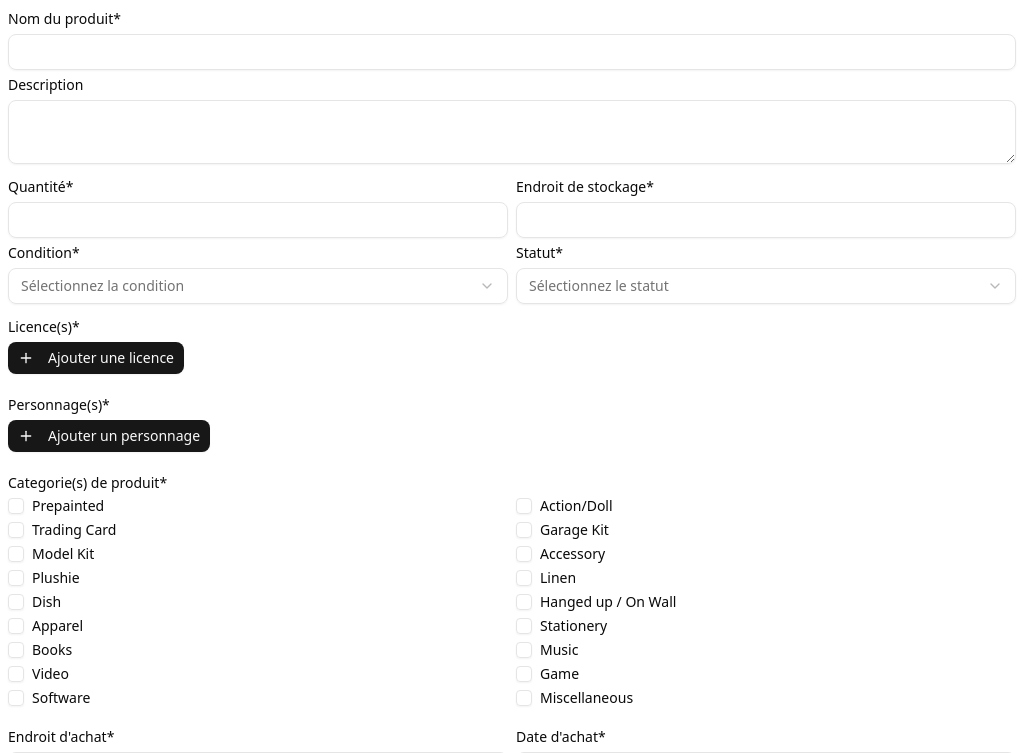
Test case: StockForm › adds and removes character fields
Click the button "Ajouter un personnage".
click(109, 436)  # box [8,420,210,452]
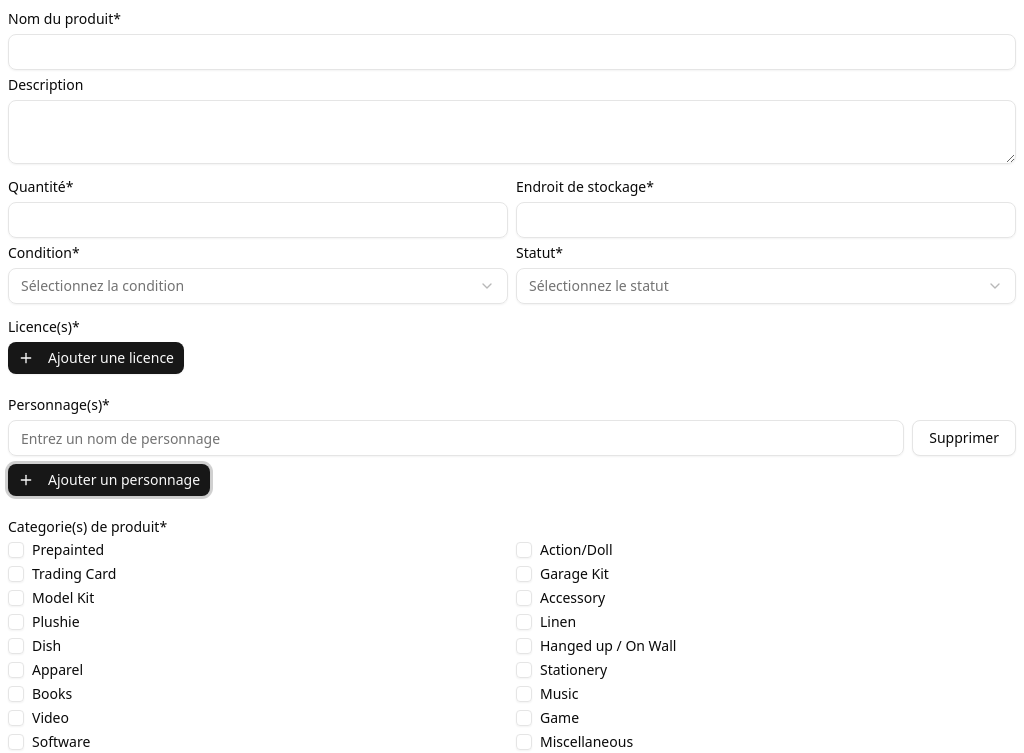
Check: the number of fields with placeholder "Entrez un nom de personnage" is 1, box [8,420,904,456]
# Ajouter un deuxième personnage
Click the button "Ajouter un personnage".
click(109, 480)  # box [8,464,210,496]
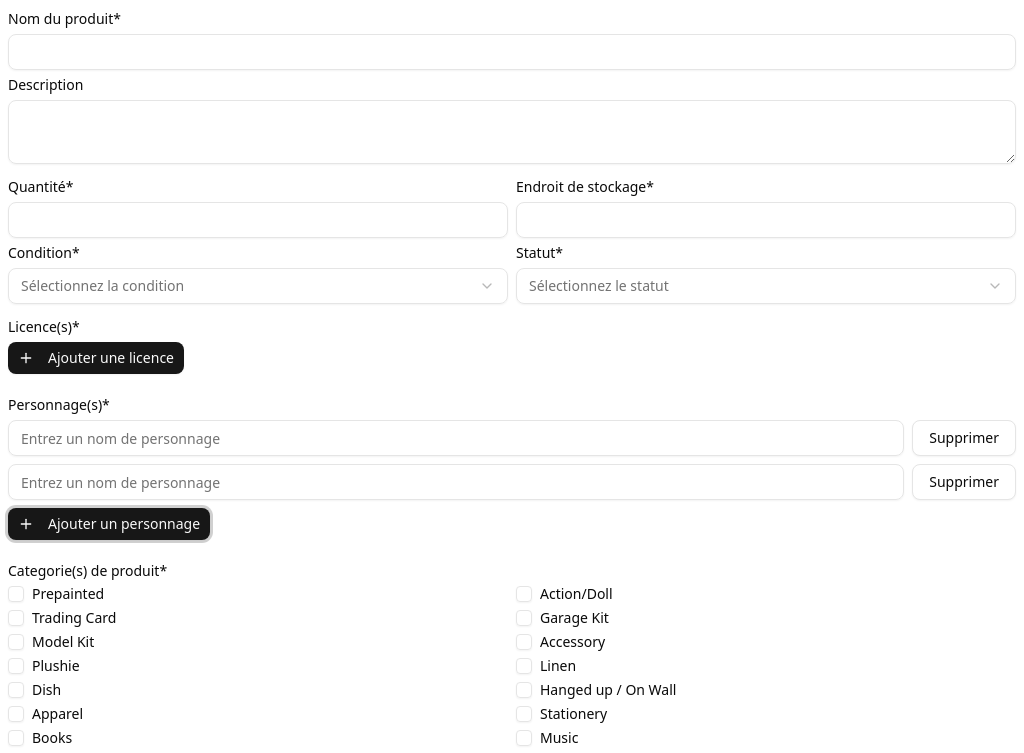
Check: the number of fields with placeholder "Entrez un nom de personnage" is 2, box [8,420,904,456]; [8,464,904,500]
# Supprimer un personnage
Click the 1st button "Supprimer".
click(964, 438)  # box [912,420,1016,456]
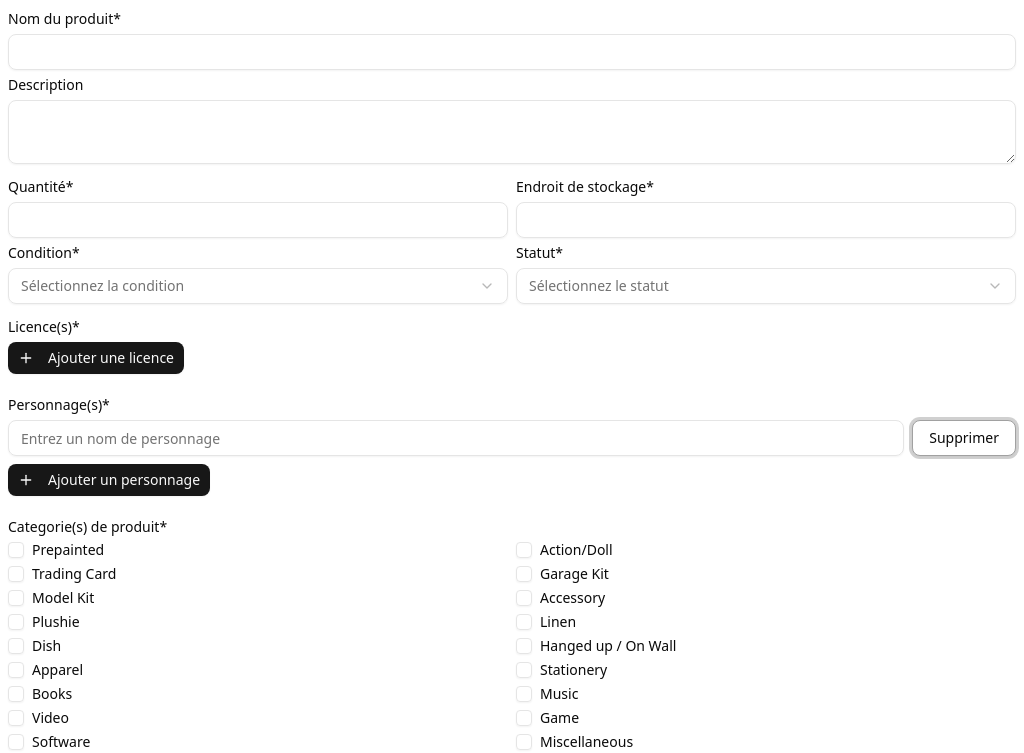
Check: the number of fields with placeholder "Entrez un nom de personnage" is 1, box [8,420,904,456]
